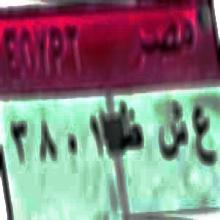0: (66, 120, 80, 170)
1: (87, 110, 105, 169)
3: (10, 109, 28, 168)
8: (35, 118, 60, 170)
Thaa: (118, 94, 145, 154)
ain: (193, 99, 216, 184)
sheen: (158, 99, 189, 166)
